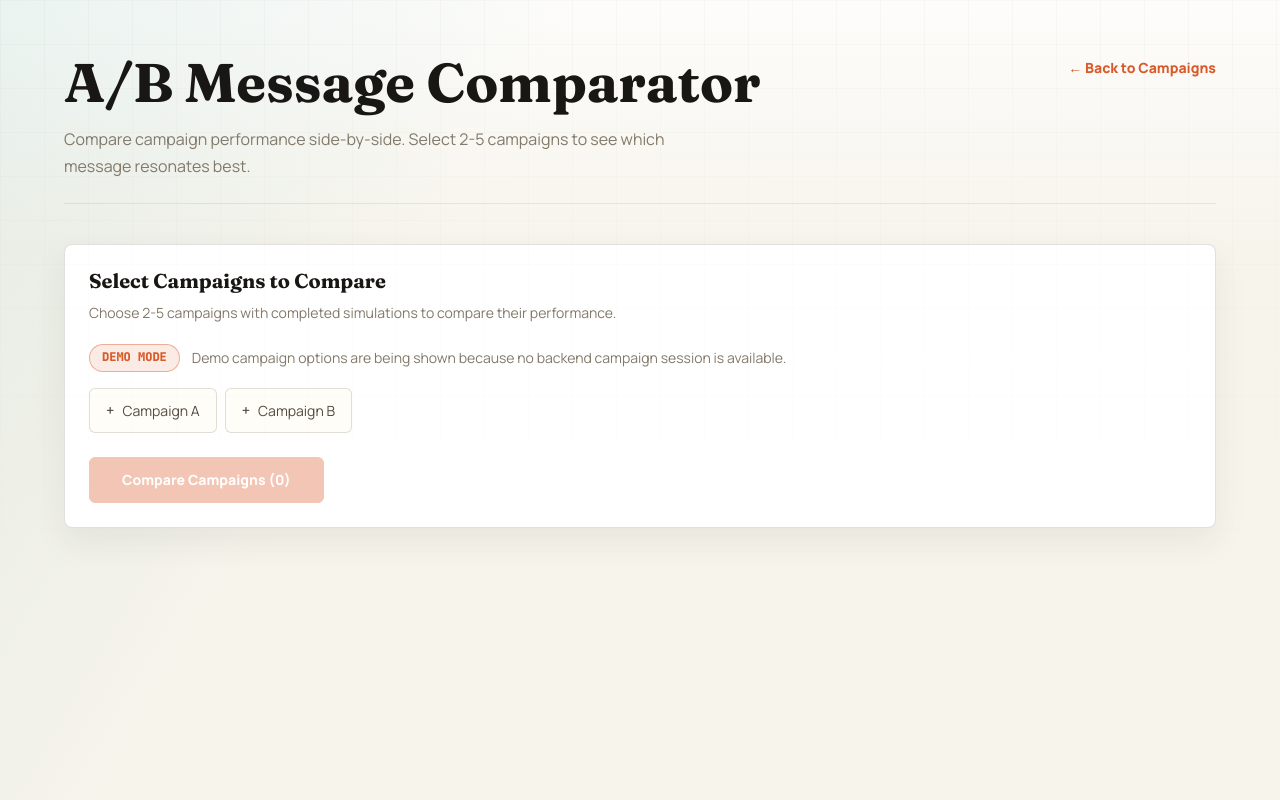
Test: Comparator source labels › labels demo backend comparator fixtures as Demo Mode
Click the element with class "campaign-chip" showing "+ Campaign A".
click(153, 410)  # box x1=89 y1=388 x2=217 y2=433
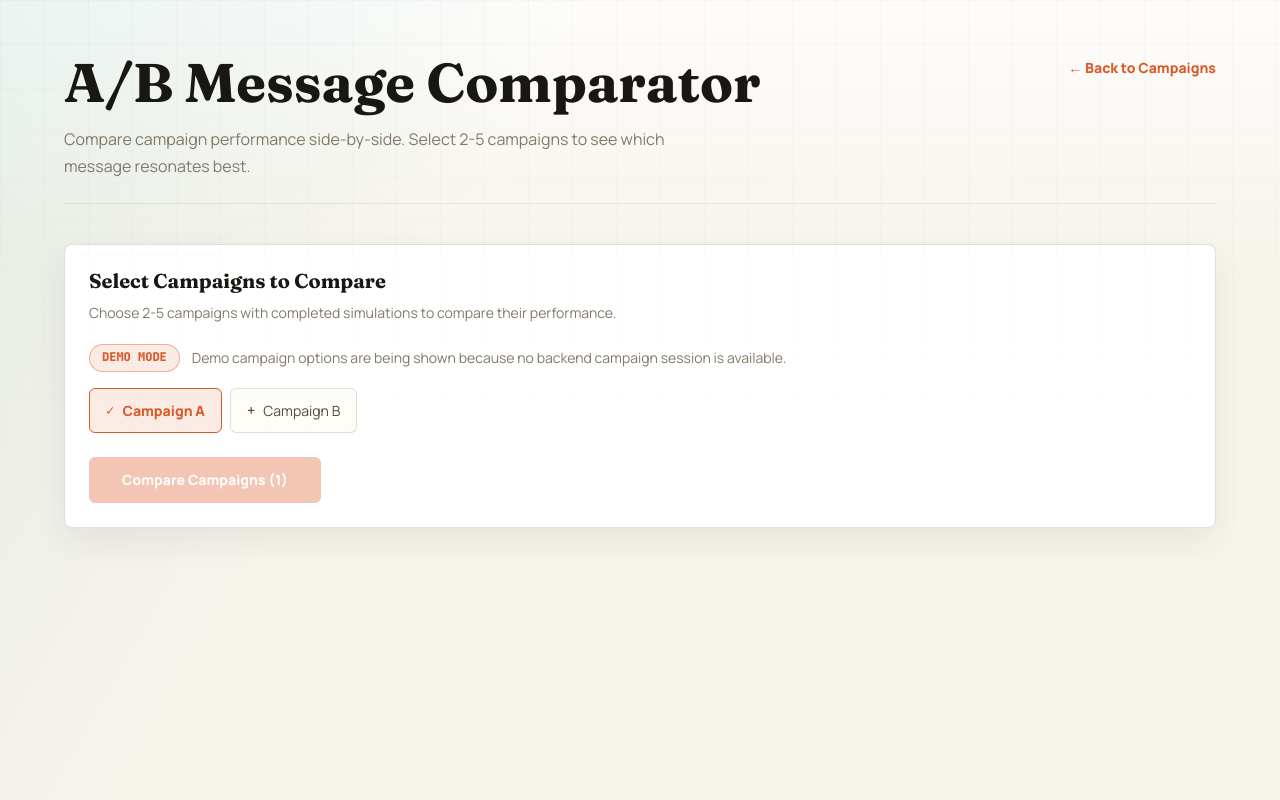
Click the element with class "campaign-chip" showing "+ Campaign B".
click(294, 410)  # box x1=230 y1=388 x2=357 y2=433
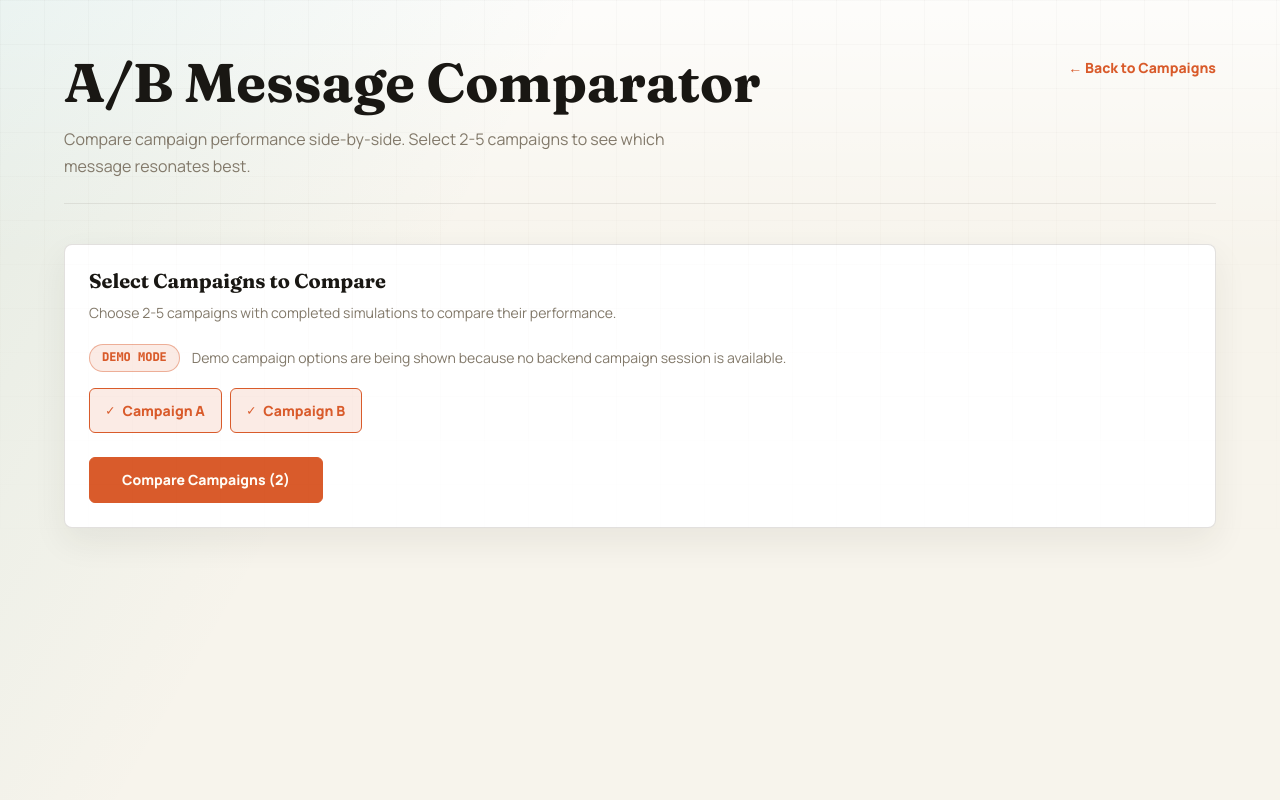
Click the button with class "btn-compare".
click(206, 480)  # box x1=89 y1=457 x2=323 y2=503
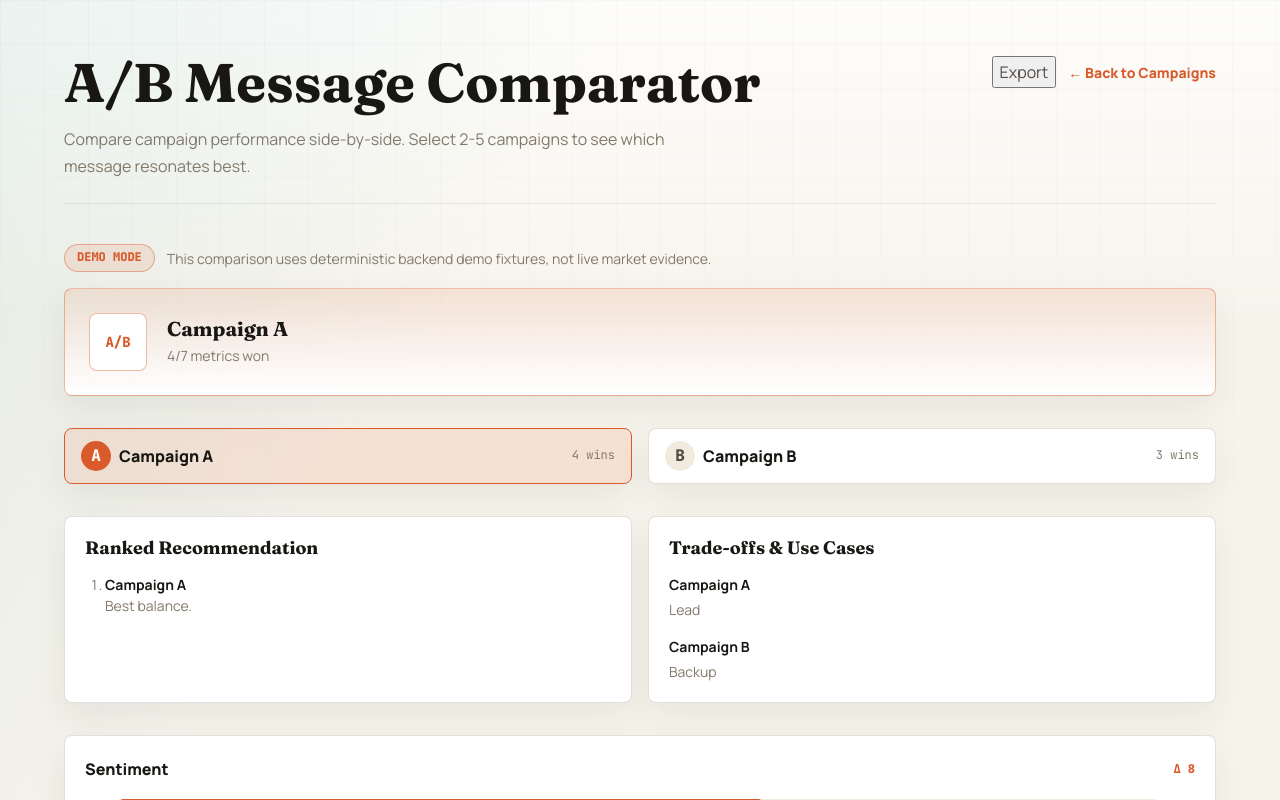
Check: the text "Demo Mode" is shown, box x1=64 y1=244 x2=155 y2=272
Check: the text "deterministic backend demo fixtures" is shown, box x1=167 y1=249 x2=711 y2=268
